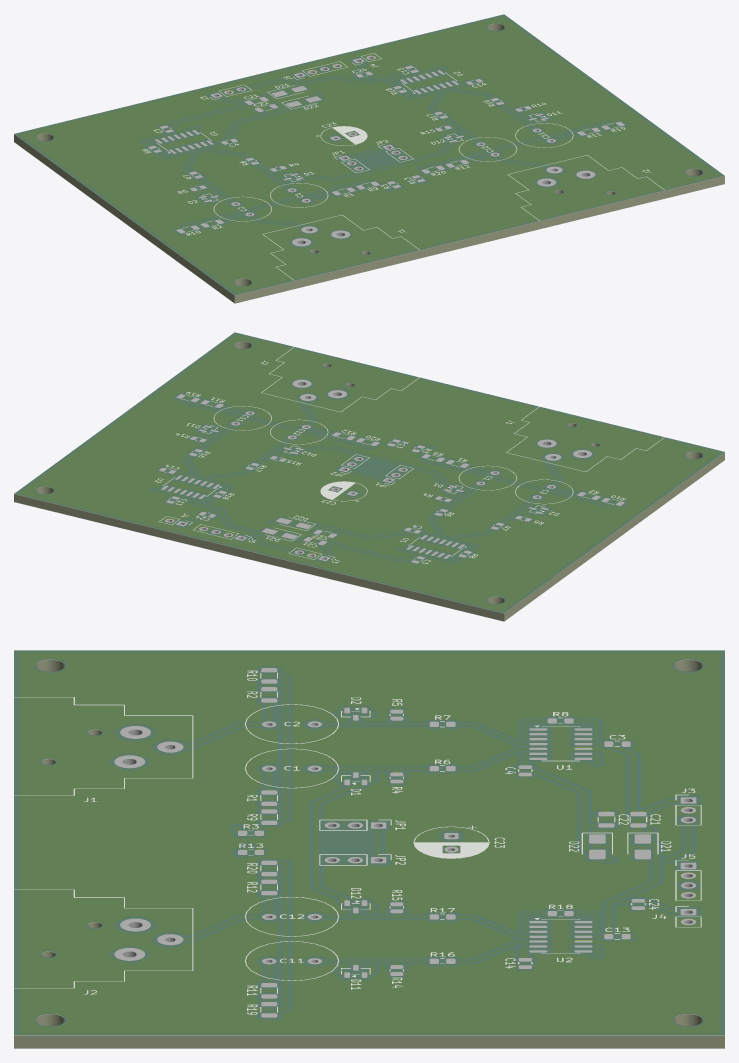
The model's file is board.glb.
3 views of the same model, one above another, from view 1: azimuth 30°, elevation 25°; view 2: azimuth 150°, elevation 25°; view 3: azimuth 270°, elevation 25° (orthographic). The views are drawn at different scales.
Visible parts, largest first — view 1: =>[0:1:1:6], =>[0:1:1:2], =>[0:1:1:8], =>[0:1:1:5]; view 2: =>[0:1:1:6], =>[0:1:1:2], =>[0:1:1:8], =>[0:1:1:5]; view 3: =>[0:1:1:6], =>[0:1:1:2], =>[0:1:1:8], =>[0:1:1:5].
Part boxes in pixels (<box>): =>[0:1:1:6]: <box>14,14,724,303</box>; =>[0:1:1:2]: <box>20,17,718,292</box>; =>[0:1:1:8]: <box>14,15,724,303</box>; =>[0:1:1:5]: <box>142,53,664,280</box>; =>[0:1:1:6]: <box>14,332,724,621</box>; =>[0:1:1:2]: <box>20,335,718,610</box>; =>[0:1:1:8]: <box>14,333,724,621</box>; =>[0:1:1:5]: <box>154,346,664,563</box>; =>[0:1:1:6]: <box>14,650,724,1048</box>; =>[0:1:1:2]: <box>20,653,718,1032</box>; =>[0:1:1:8]: <box>14,651,724,1048</box>; =>[0:1:1:5]: <box>14,670,701,1014</box>.
Bounding box in the file's own units: 0.1 × 0.00164 × 0.078.
Materials: 4 (4 with a texture image).
